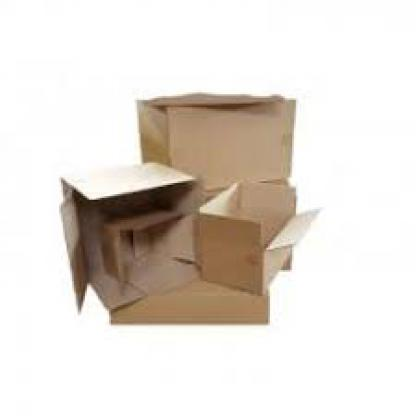CARDBOARD: (57, 159, 194, 316), (135, 94, 294, 190), (194, 179, 316, 294), (111, 268, 270, 324)
